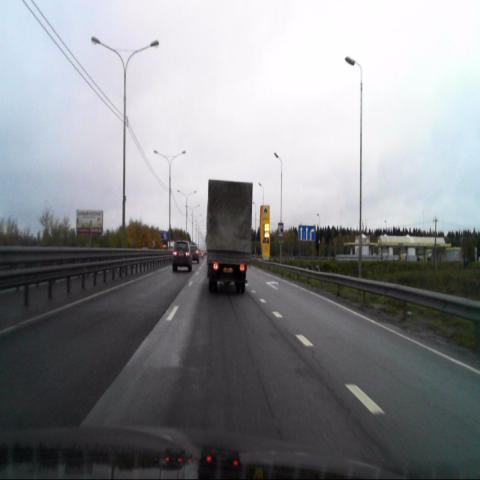5_15_1: (298, 224, 316, 241)
